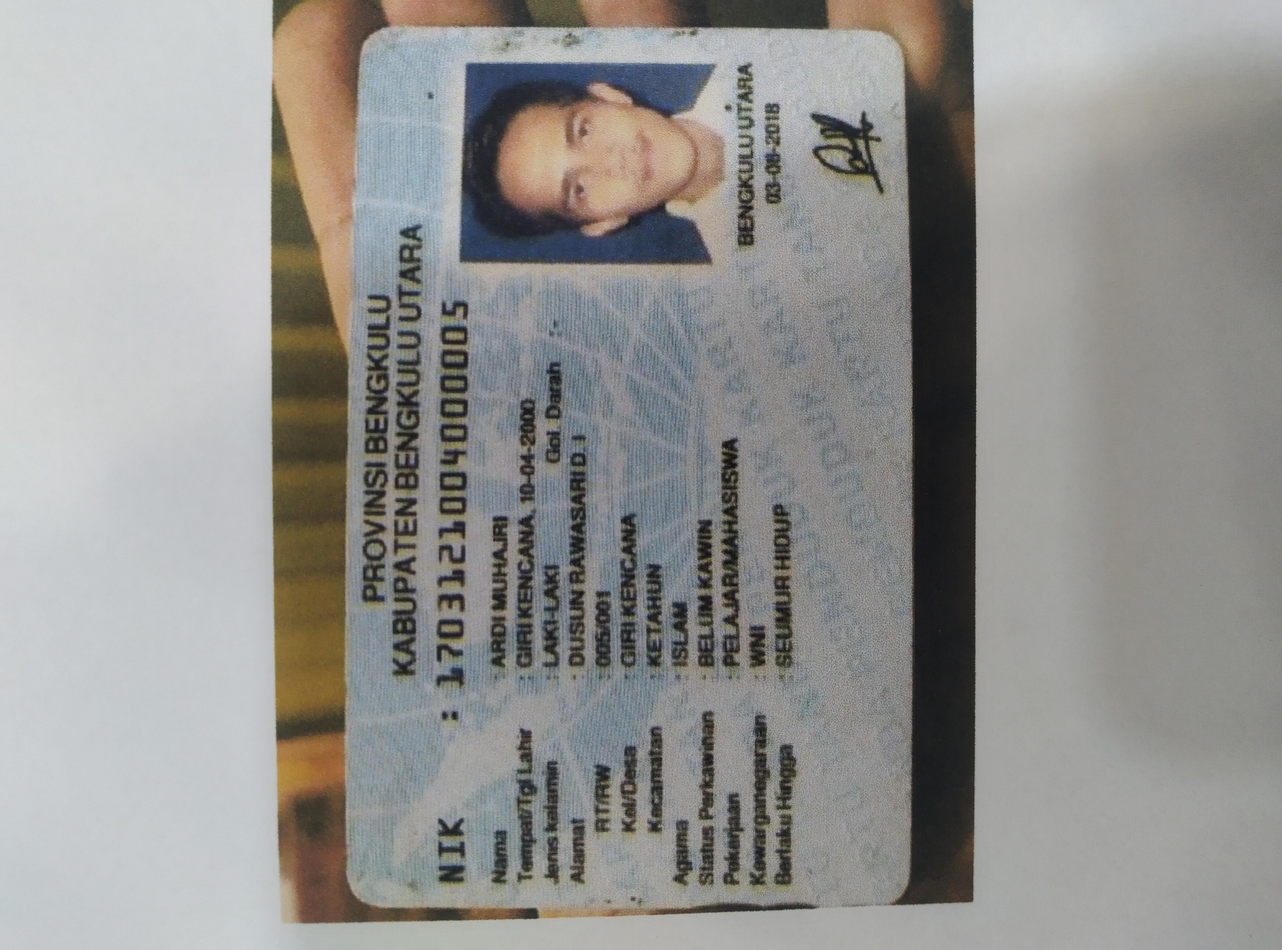ID-card: (71, 258, 1236, 671)
